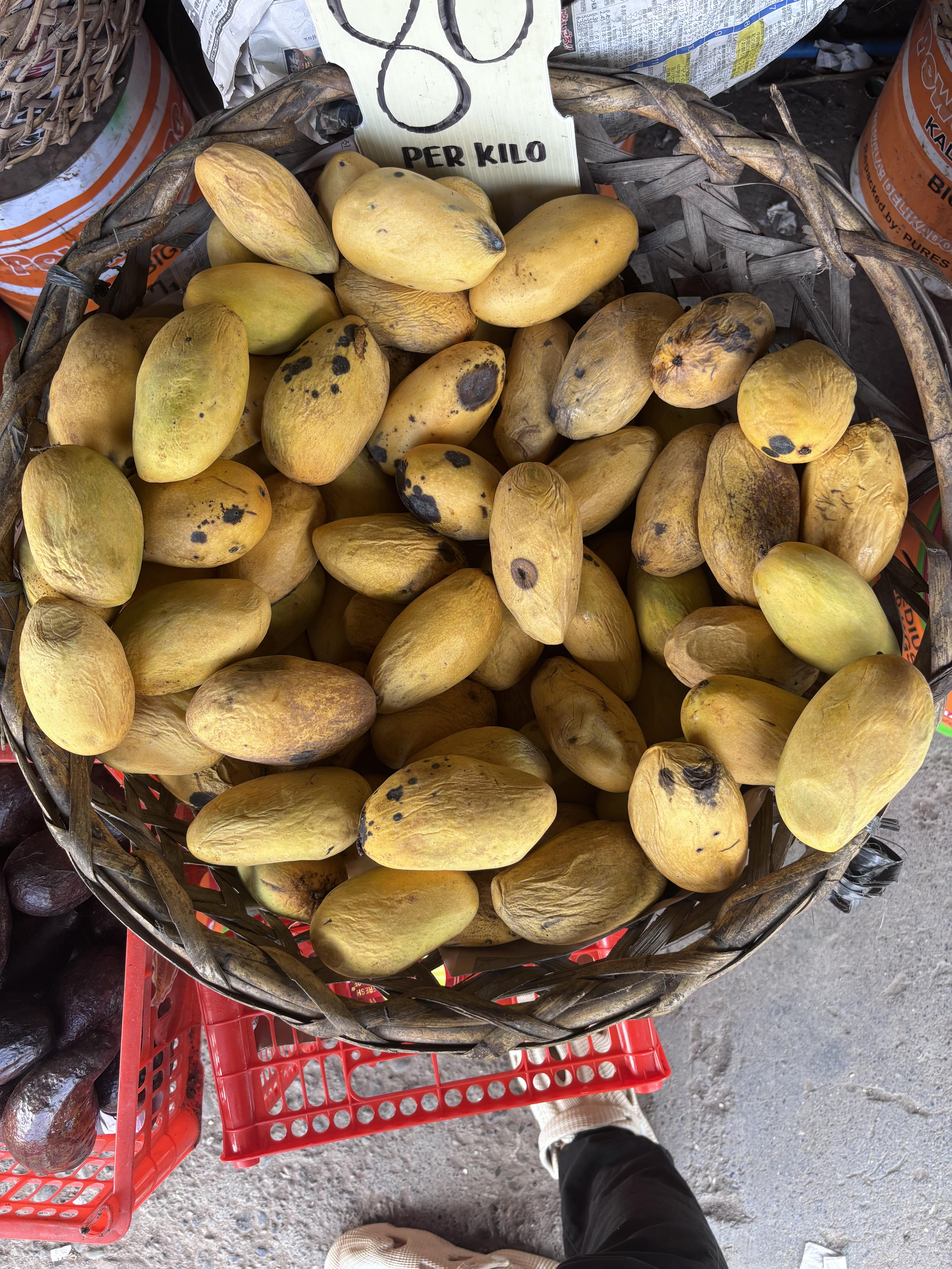mango: (775, 654, 935, 852), (359, 755, 557, 872), (332, 167, 506, 292), (186, 654, 376, 768), (262, 316, 389, 486), (133, 302, 249, 482), (22, 445, 143, 607), (196, 143, 339, 274), (628, 742, 748, 893), (20, 598, 134, 756), (490, 463, 582, 645), (737, 339, 856, 464), (651, 293, 775, 408)
occluded: (359, 754, 556, 871), (470, 194, 638, 327), (492, 821, 667, 945), (368, 569, 504, 714), (550, 292, 682, 441), (753, 542, 899, 675), (310, 867, 478, 982), (698, 425, 799, 607), (369, 341, 506, 475), (113, 579, 270, 695), (187, 767, 370, 866), (800, 419, 908, 583), (531, 657, 647, 796), (129, 459, 272, 570), (47, 313, 142, 475), (184, 262, 341, 355), (184, 263, 341, 355), (312, 513, 468, 604), (663, 605, 819, 696), (219, 473, 325, 605), (681, 675, 807, 785), (632, 424, 721, 577), (335, 260, 477, 354), (550, 426, 661, 536), (493, 318, 574, 467), (563, 550, 642, 701), (370, 679, 497, 769), (98, 690, 222, 775), (395, 443, 501, 540), (627, 558, 713, 667), (410, 726, 552, 784), (238, 856, 347, 926), (521, 720, 598, 806), (256, 564, 325, 655), (471, 605, 544, 691), (321, 449, 404, 522), (222, 356, 281, 458), (448, 868, 519, 947), (159, 758, 265, 810), (314, 151, 377, 227), (307, 573, 358, 664), (16, 529, 64, 608), (344, 594, 403, 656), (529, 803, 594, 855), (206, 216, 267, 267), (436, 175, 496, 220), (742, 786, 770, 825), (595, 791, 628, 823), (92, 606, 120, 625), (354, 859, 378, 875), (566, 871, 566, 871)
